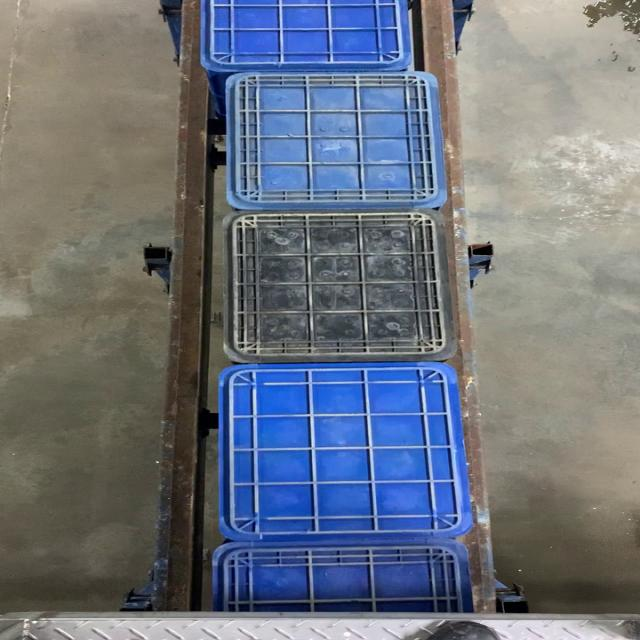Box: (219, 364, 472, 540), (221, 211, 459, 363), (224, 68, 447, 210)
